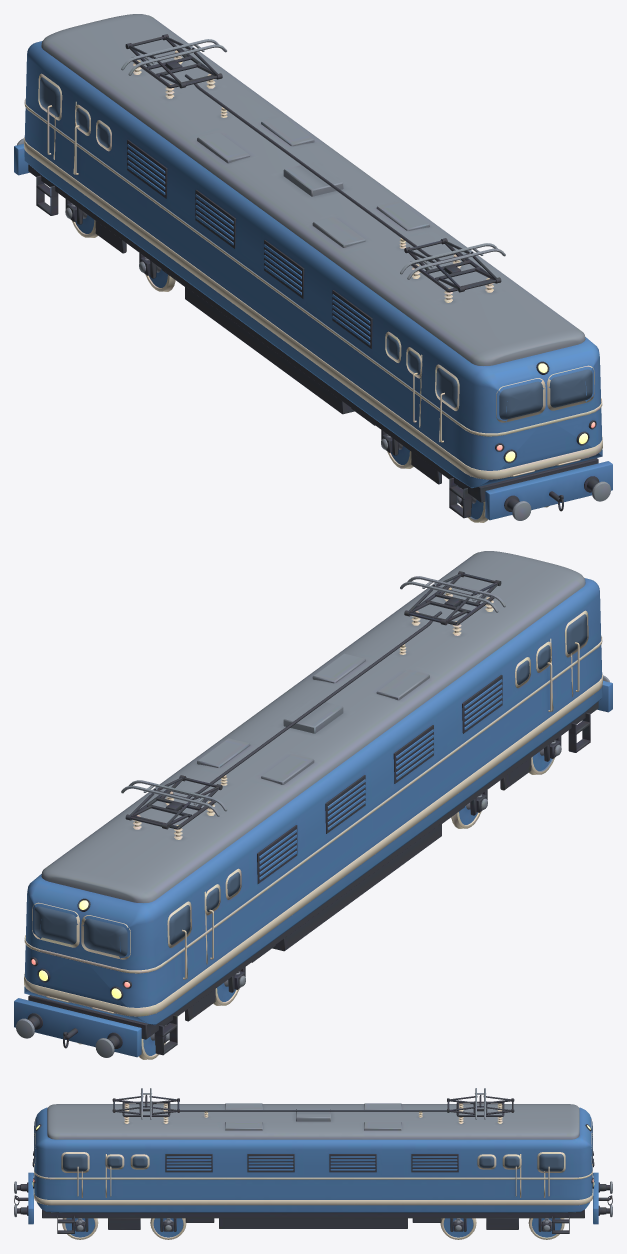
Rendered from electric-locomotive.glb.
3 views of the same model, one above another, from view 1: azimuth 30°, elevation 25°; view 2: azimuth 150°, elevation 25°; view 3: azimuth 270°, elevation 25° (orthographic). The views are drawn at different scales.
Visible parts, largest first — view 1: electric-locomotive_body, electric-locomotive_window_glass; view 2: electric-locomotive_body, electric-locomotive_window_glass; view 3: electric-locomotive_body, electric-locomotive_window_glass.
Boxes of the visible parts, left/top/right/bottom form: electric-locomotive_body: left=14, top=14, right=612, bottom=522; electric-locomotive_window_glass: left=39, top=77, right=592, bottom=419; electric-locomotive_body: left=14, top=551, right=612, bottom=1059; electric-locomotive_window_glass: left=34, top=614, right=587, bottom=956; electric-locomotive_body: left=14, top=1088, right=612, bottom=1239; electric-locomotive_window_glass: left=34, top=1121, right=592, bottom=1171.
Bounding box in the file's own units: 3.06 × 4.55 × 19.
4 materials, 1 textured.
